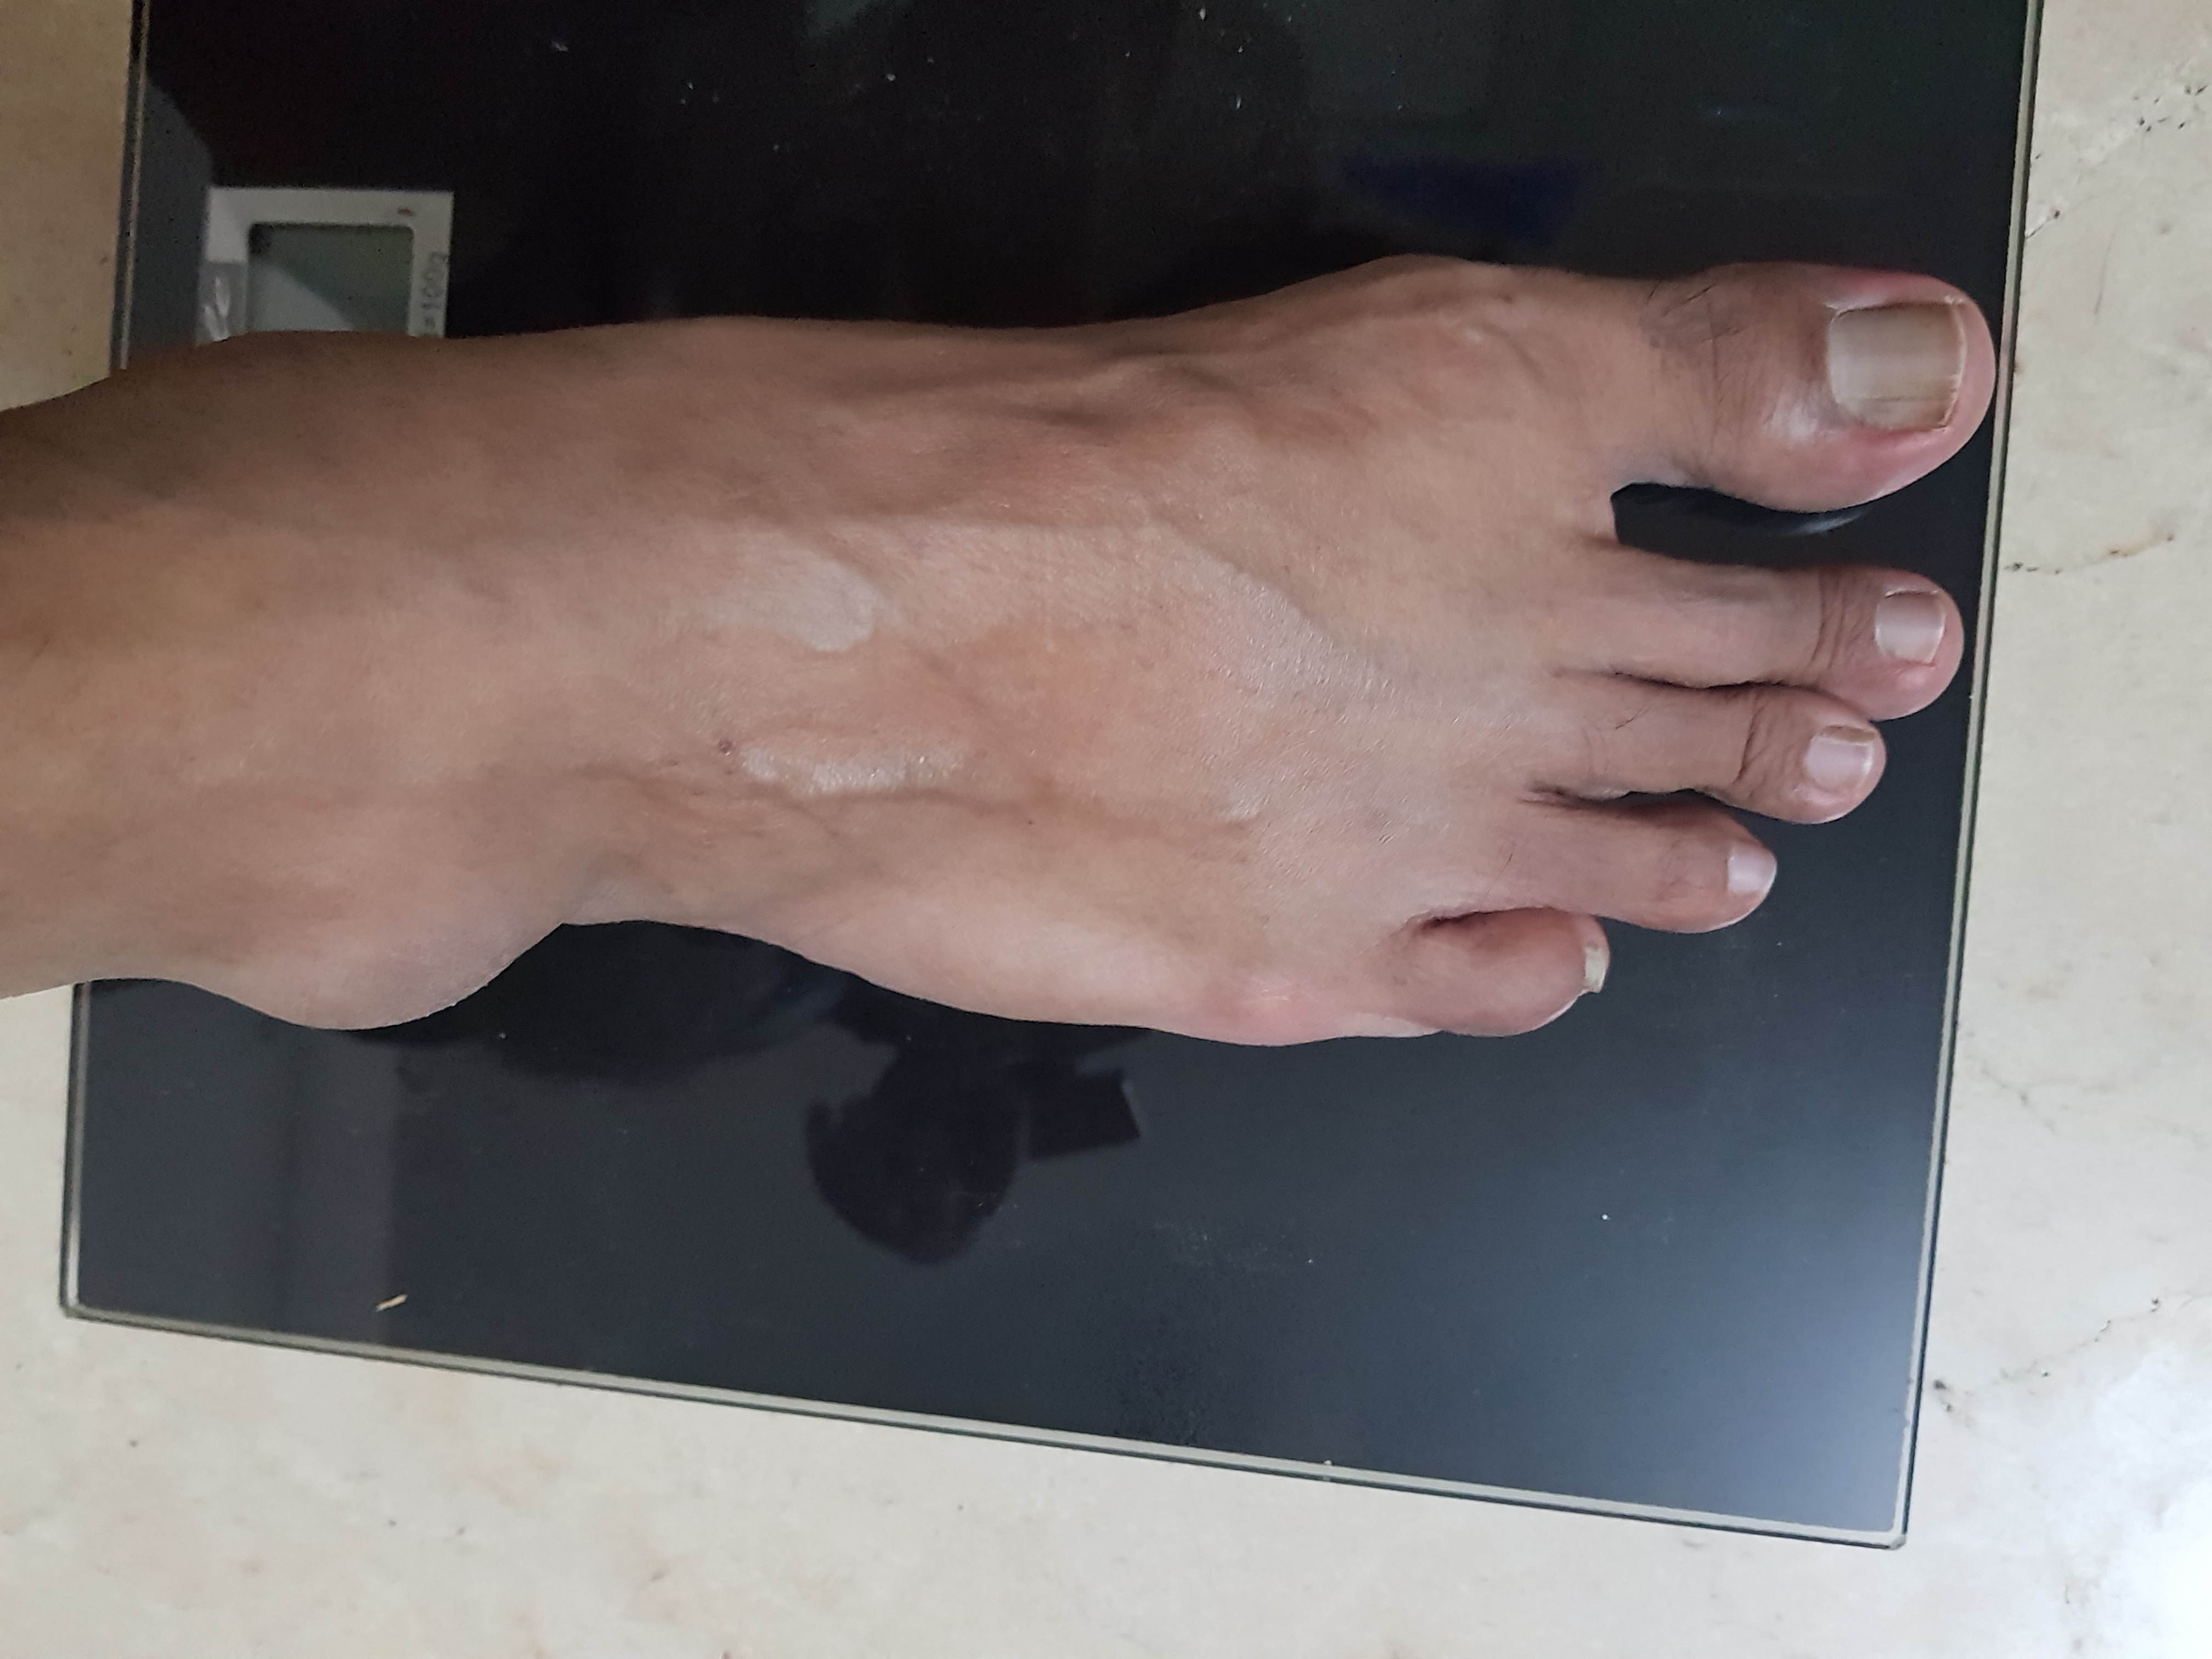feet: (10, 150, 2003, 1073)
